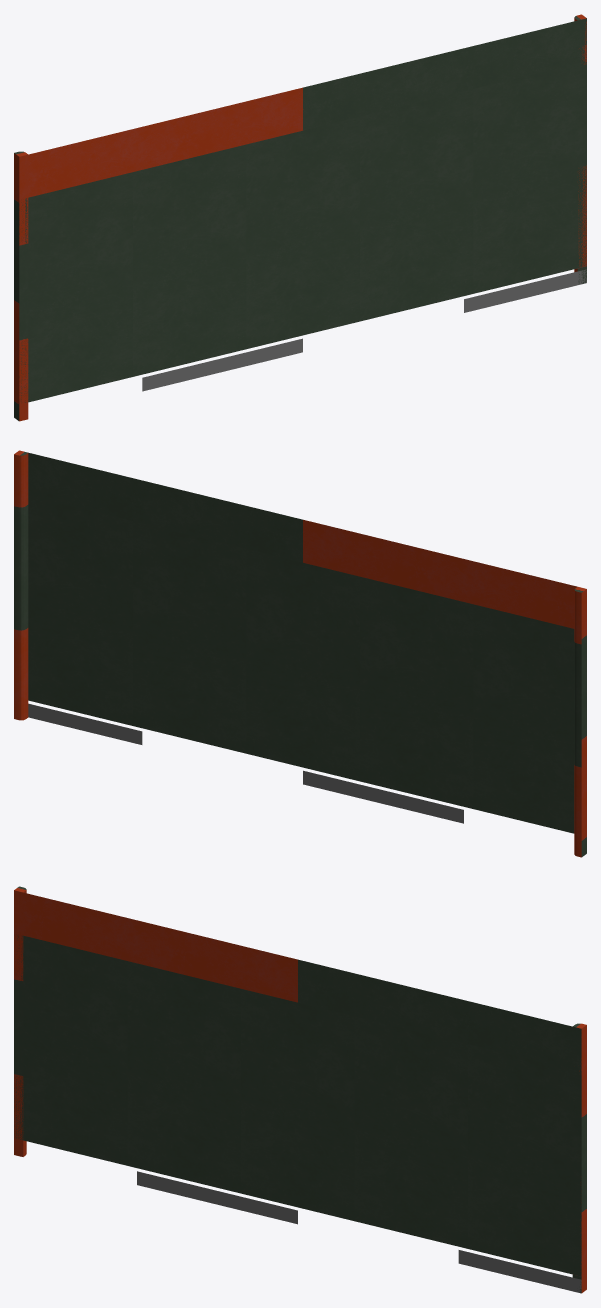
File: wall4.fbx
3 views of the same model, one above another, from view 1: azimuth 30°, elevation 25°; view 2: azimuth 150°, elevation 25°; view 3: azimuth 330°, elevation 25° (orthographic).
Parts seen in each view (by area): view 1: pCube33; view 2: pCube33; view 3: pCube33.
Part boxes in pixels (x1,y1,x2,y2): pCube33: (14,14,586,421); pCube33: (14,450,586,857); pCube33: (14,886,586,1293).
Size of the model in its own units: 5.78 by 2.58 by 0.0935.
